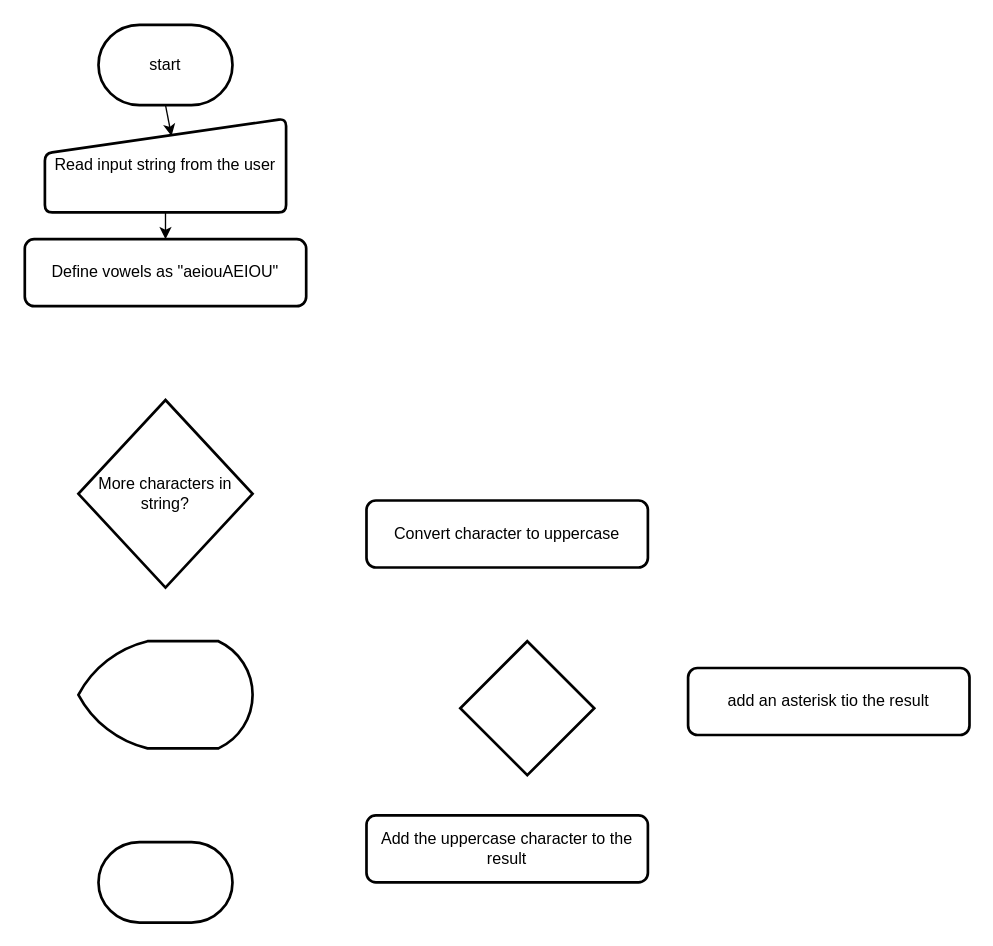
Some shapes in this 993 by 946 pixel diagram are drawn without their labels. The shapes that lost their labels are listed below. From the top down, each one's centre as x and y in pixels, then its label:
At [164,694]: "Print the modified string".
At [526,707]: "Is character a vowel?".
At [164,881]: "End".
